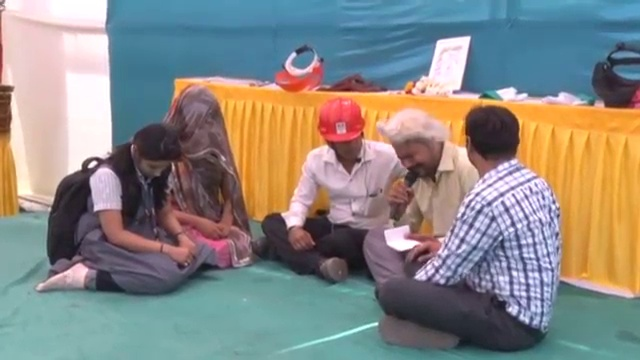helmet: (316, 102, 368, 145)
helmet_off: (386, 108, 451, 184), (460, 107, 525, 181), (121, 120, 186, 182), (167, 87, 224, 152)
helmet_on: (316, 101, 368, 168)
person: (373, 104, 559, 352), (39, 124, 207, 296), (254, 94, 405, 281), (361, 108, 480, 282), (151, 81, 256, 266)
